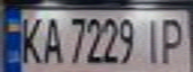2: (84, 14, 106, 65), (100, 15, 121, 65)
7: (63, 14, 87, 65)
9: (118, 15, 142, 65)
A: (39, 14, 63, 65)
I: (139, 15, 166, 65)
K: (15, 12, 45, 65)
P: (157, 15, 190, 65)
